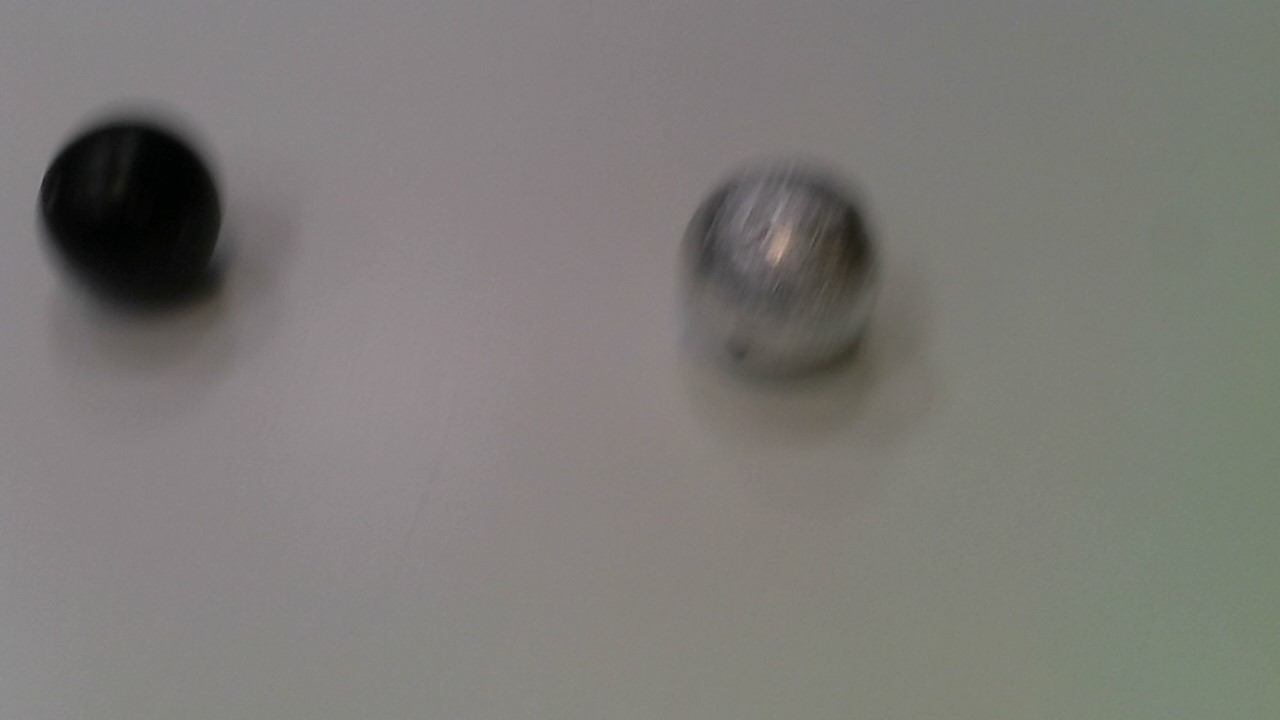black_ball: (35, 108, 237, 309)
silver_ball: (675, 165, 891, 385)
